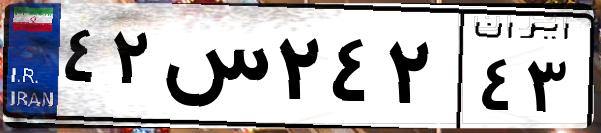2: (270, 28, 330, 110), (385, 28, 445, 110), (110, 28, 158, 98)
3: (525, 38, 570, 115)
4: (330, 28, 385, 110), (57, 26, 110, 100), (475, 38, 525, 113)
س: (158, 20, 270, 120)
